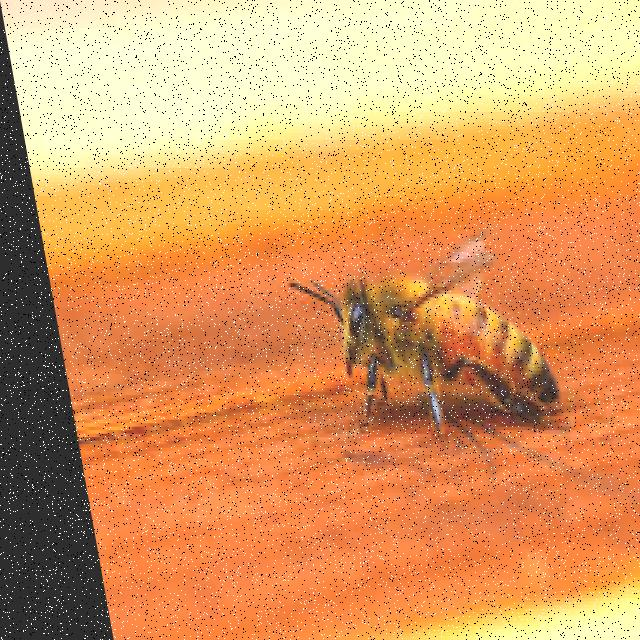Apis-mellifera-scutellata: (266, 224, 583, 478)
